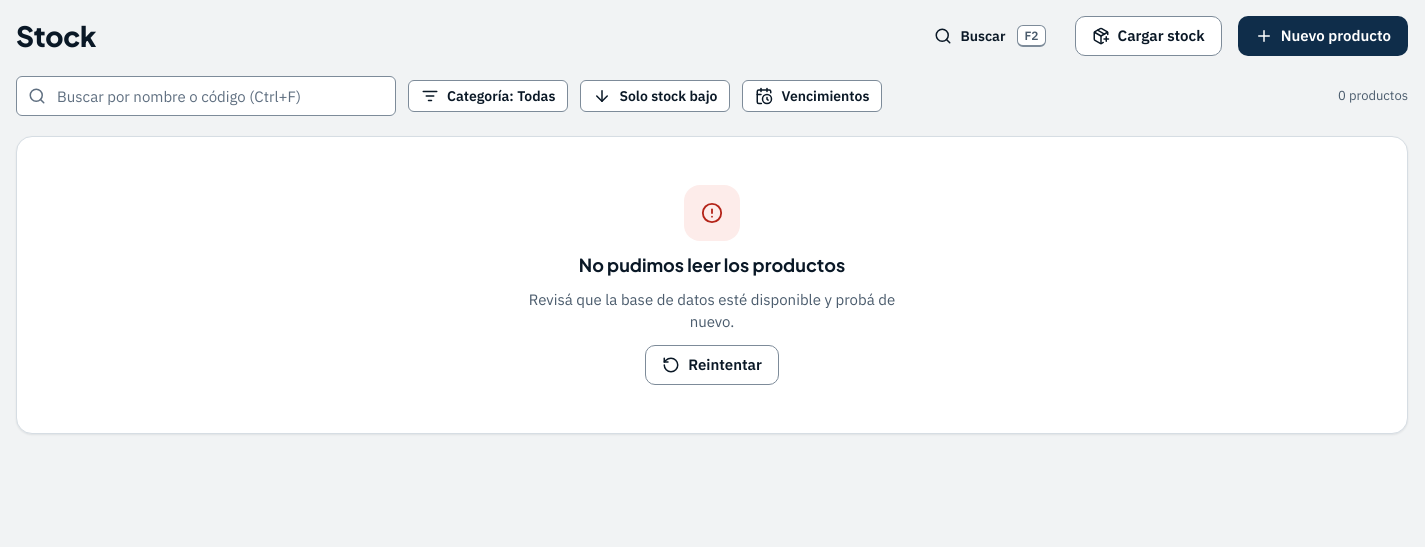
StockProducts — carga y estados › error de carga: "No pudimos leer los productos" y Reintentar vuelve a pedir
The width and height of the screenshot is (1425, 547).
Expected: the heading "No pudimos leer los productos" is shown, [579,253,845,277]
Click the button "Reintentar": click(712, 365) [645,345,779,385]
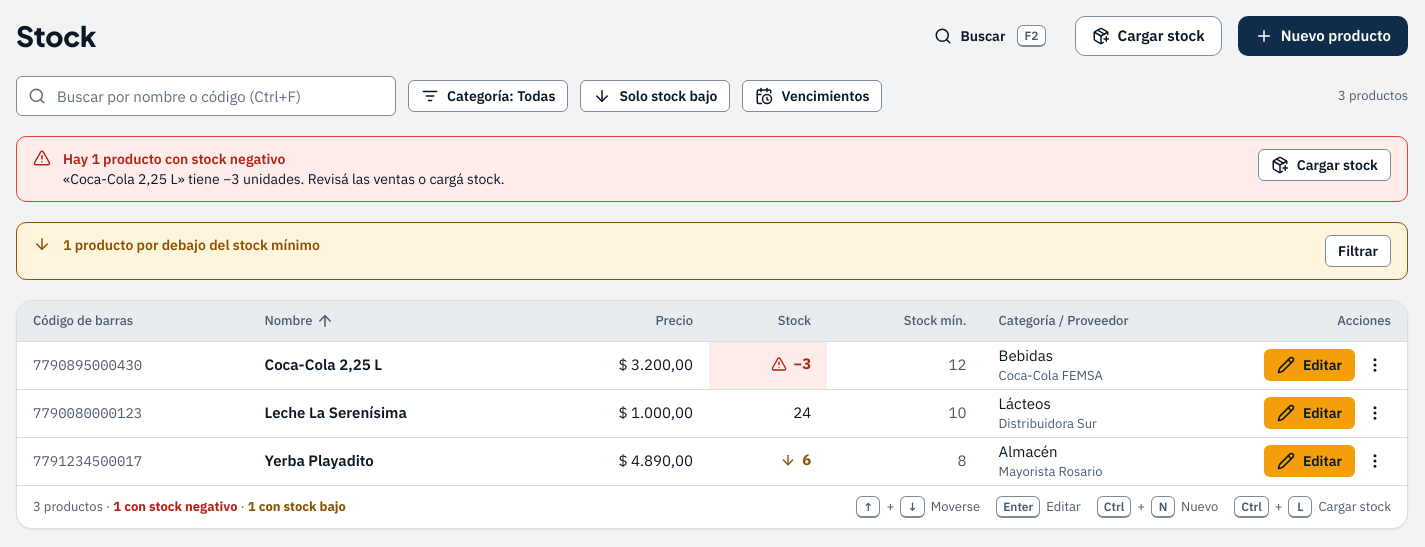
Expected: the heading "No pudimos leer los productos" is gone
